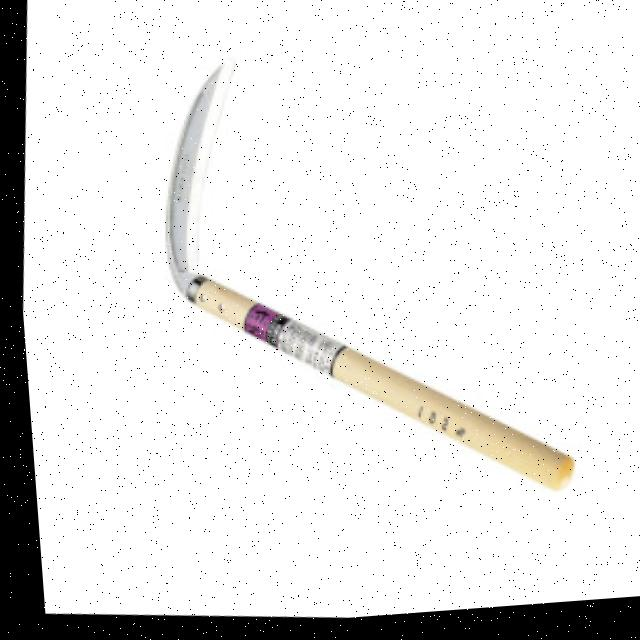sickle: (97, 25, 640, 553)
